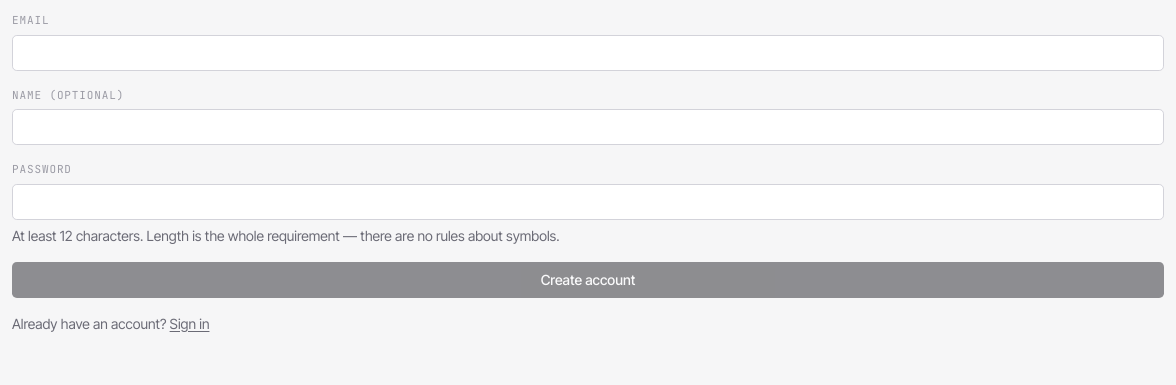
Test: CredentialsForm — signing up › catches a short password without a round trip
Step 1. Type "sam@example.com" into the field labelled "Email" → (588, 52), box [12,34,1164,70]
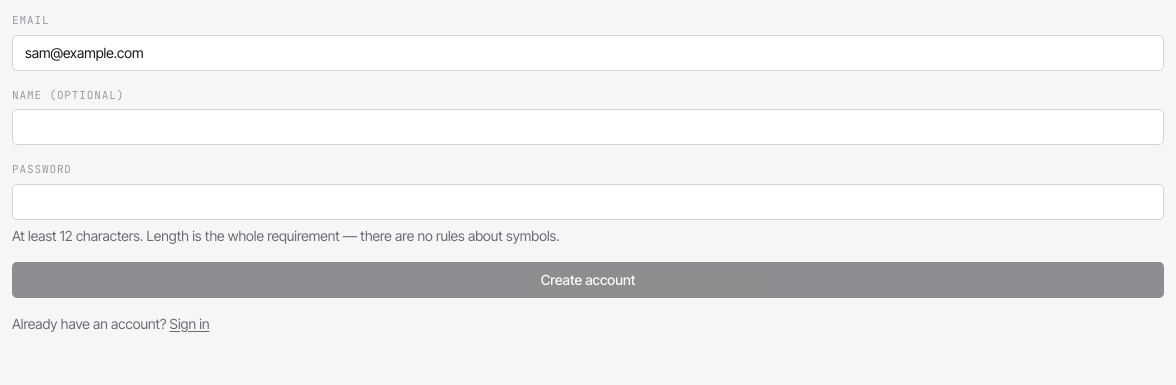
Step 2. Type "short" into the password field labelled "Password" → (588, 202), box [12,184,1164,220]
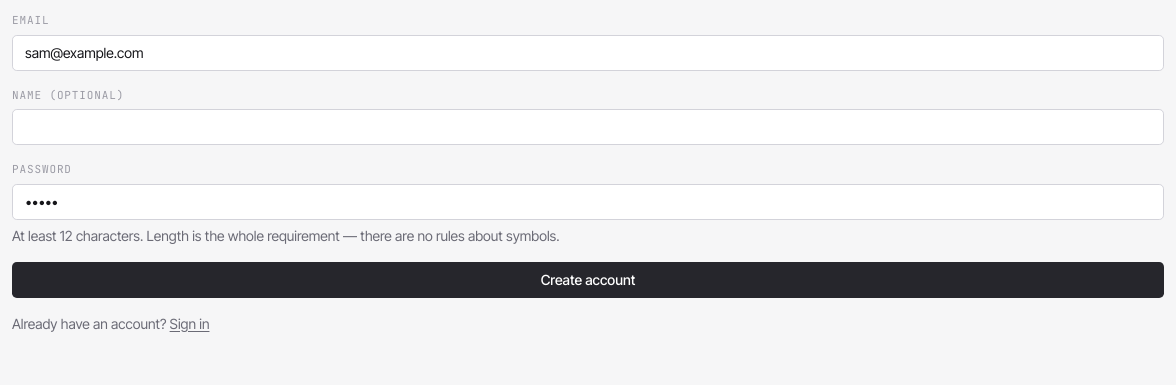
Step 3. Click the button "Create account" → (588, 280), box [12,262,1164,298]
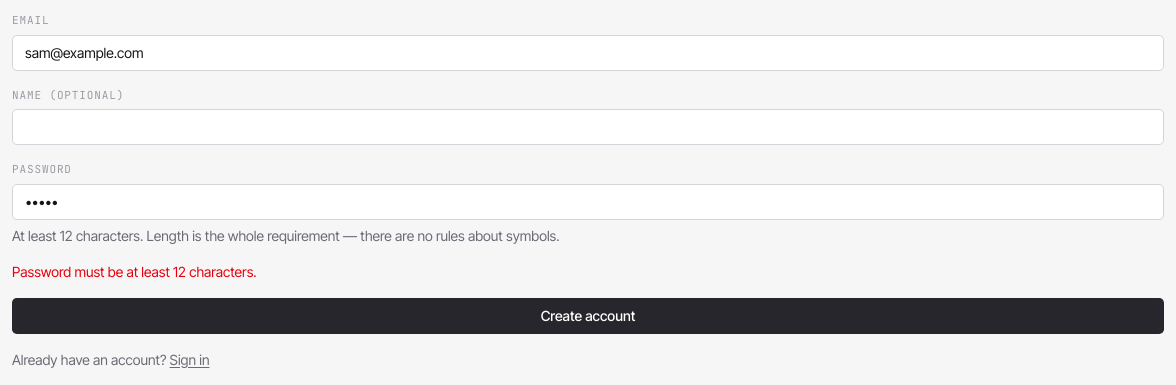
Result: the message shows "at least 12 characters" at [12,262,257,280]
